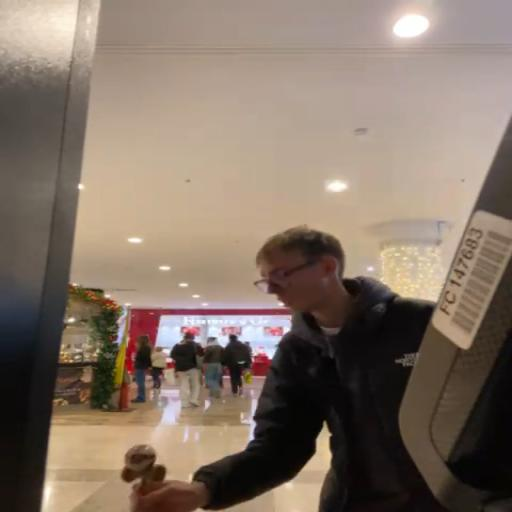kendama_ball: (124, 444, 158, 471)
